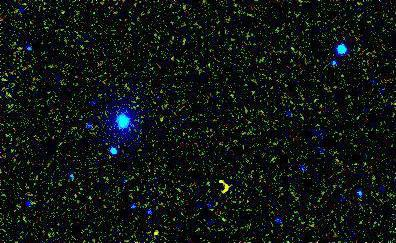star: (140, 218, 170, 243)
